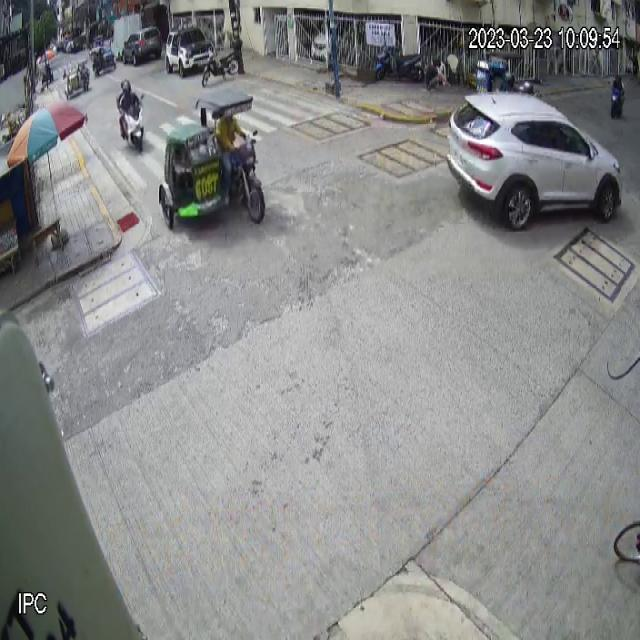Car: (447, 92, 622, 234)
Motorcycle: (116, 92, 147, 152)
Tricycle: (158, 87, 266, 232)
